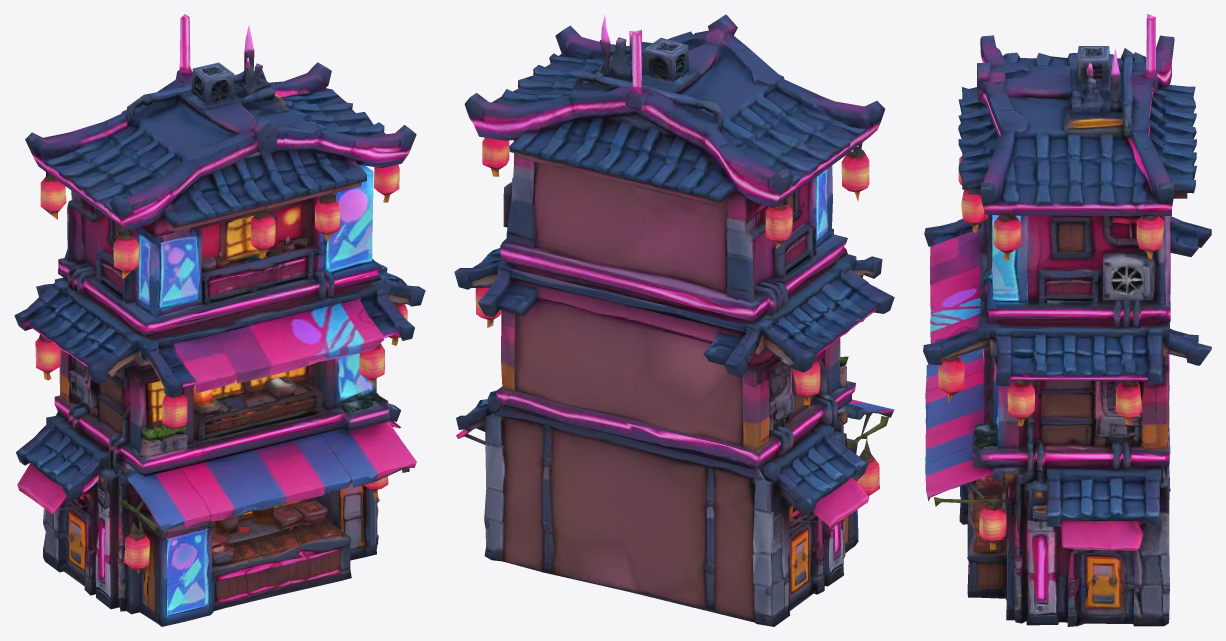
The model's file is env-building-5.glb.
The picture shows the model from 3 angles, left to right: view 1: azimuth 30°, elevation 25°; view 2: azimuth 150°, elevation 25°; view 3: azimuth 270°, elevation 25°; orthographic projection. The views are drawn at different scales.
Parts seen in each view (by area): view 1: env-building-5; view 2: env-building-5; view 3: env-building-5.
Part boxes in pixels (bbox=[...]): env-building-5: bbox=[14, 14, 425, 626]; env-building-5: bbox=[454, 14, 894, 626]; env-building-5: bbox=[923, 14, 1211, 626].
Size of the model in its own units: 8.43 by 12 by 5.79.
1 material, 1 textured.
